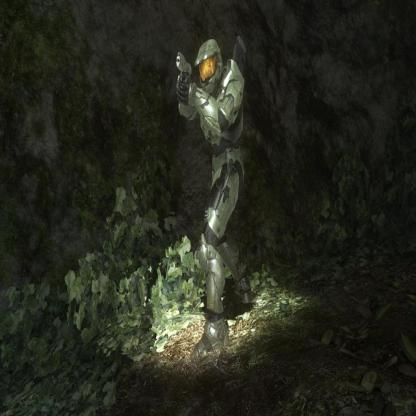Helmet: (192, 37, 222, 88)
